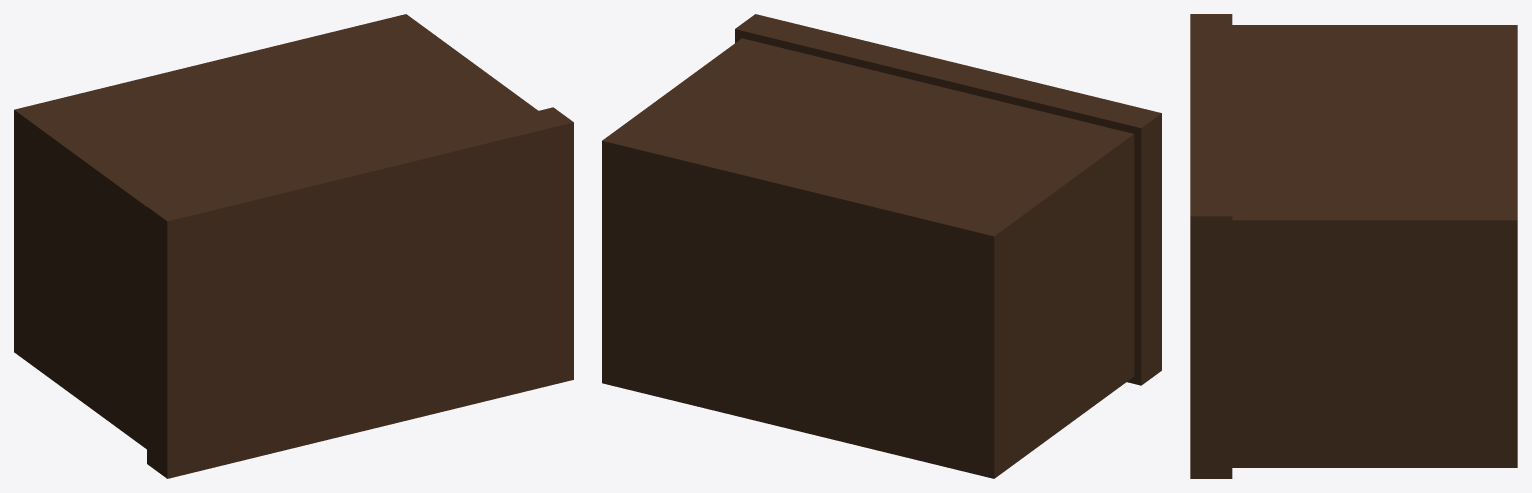
File: SM_CommonStorageChest.obj
3 renders of one model, left to right at view 1: azimuth 30°, elevation 25°; view 2: azimuth 150°, elevation 25°; view 3: azimuth 270°, elevation 25°, orthographic. The views are drawn at different scales.
Visible parts, largest first — view 1: SM_CommonStorageChest; view 2: SM_CommonStorageChest; view 3: SM_CommonStorageChest.
Boxes of the visible parts, x1,y1,x2,y2 form: SM_CommonStorageChest: (14, 14, 573, 478); SM_CommonStorageChest: (602, 14, 1161, 478); SM_CommonStorageChest: (1190, 14, 1517, 478).
Size of the model in its own units: 114 by 69 by 78.
